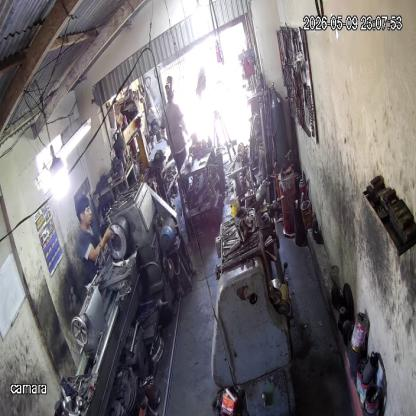sin_lentes: (83, 206, 93, 220)
